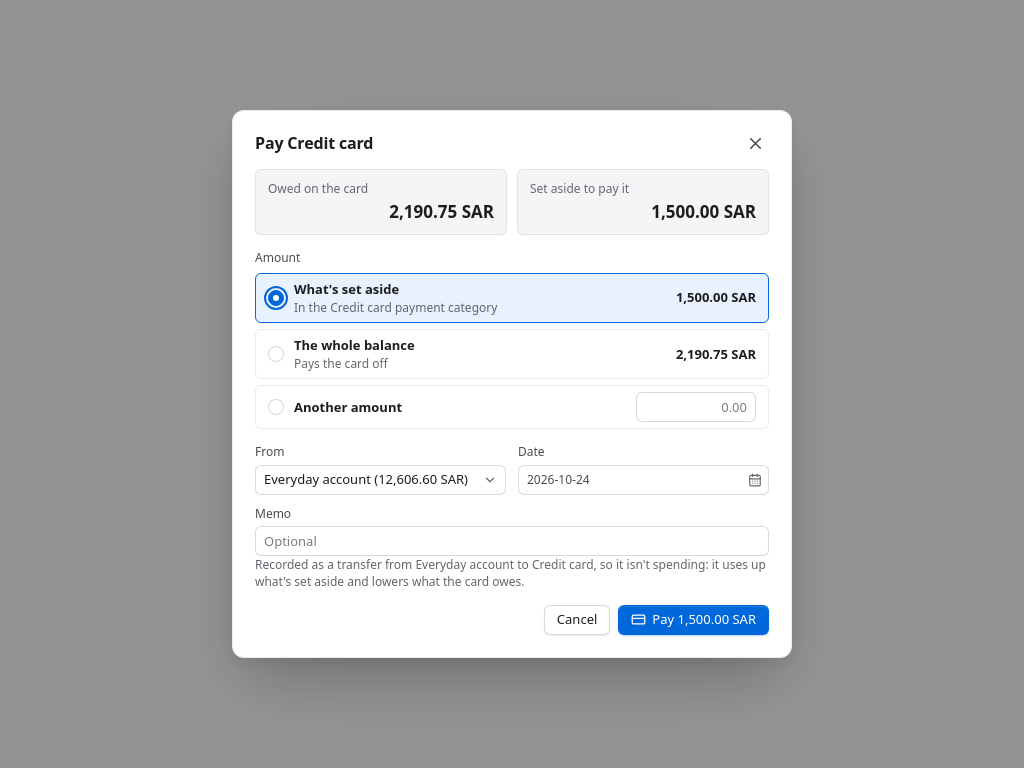
it: offers what's set aside, the whole balance, or another amount
The image size is (1024, 768).
Expected: the radio button labelled "What's set aside" is checked, [268,290,284,306]
Expected: the text "2,190.75 SAR" below "Owed on the card" is shown, [389,200,494,223]
Click the radio button labelled "The whole balance Pays the card off 2,190.75 SAR" at (276, 354), box [268,346,284,362]
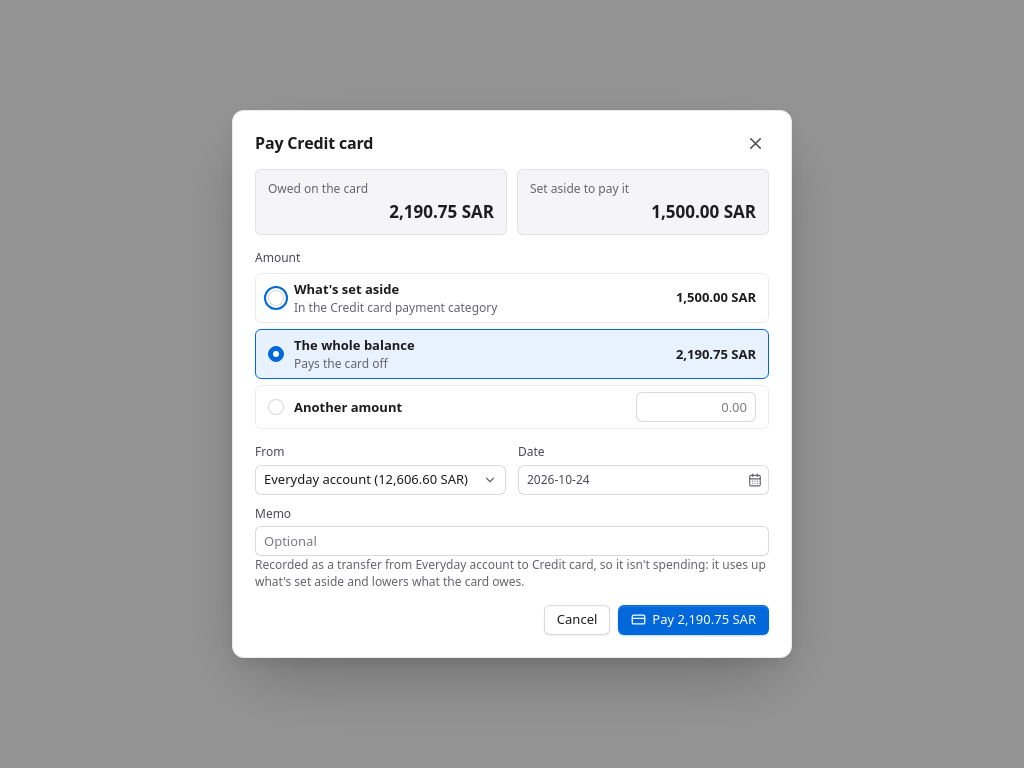
Result: the button "Pay 2,190.75 SAR" is shown at [618,605,769,635]
